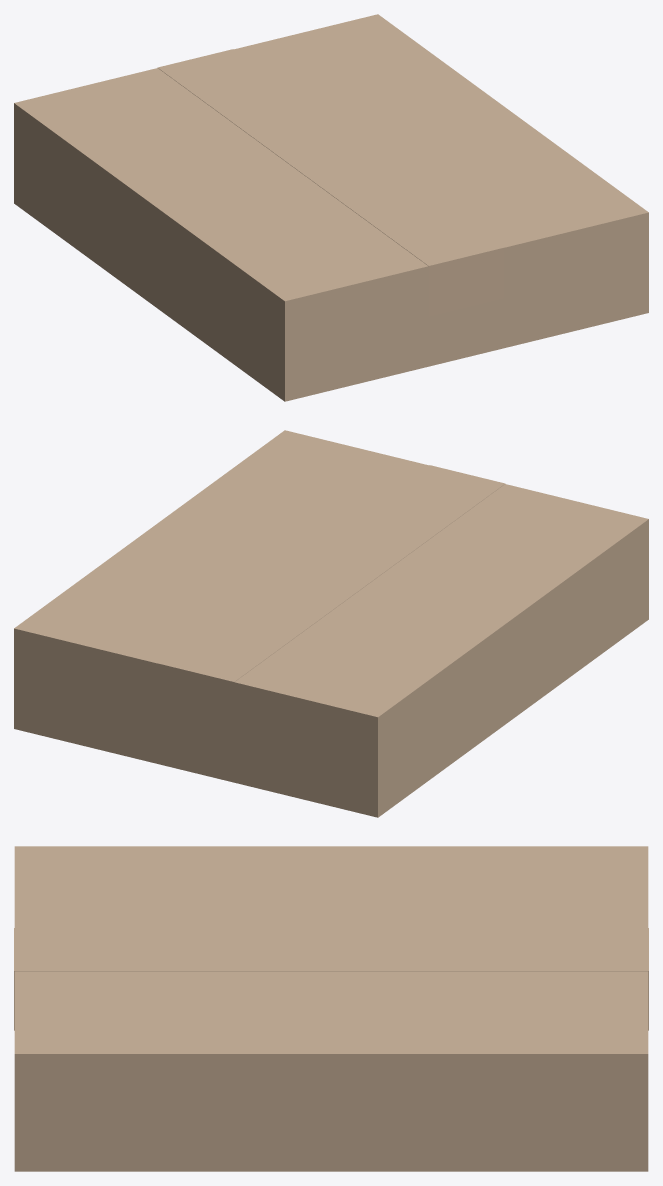
The model's file is boxPLAT.FBX.
The picture shows the model from 3 angles, top to bottom: view 1: azimuth 30°, elevation 25°; view 2: azimuth 150°, elevation 25°; view 3: azimuth 270°, elevation 25°; orthographic projection. The views are drawn at different scales.
Parts seen in each view (by area): view 1: boxPLAT; view 2: boxPLAT; view 3: boxPLAT.
Boxes of the visible parts, x1,y1,x2,y2 form: boxPLAT: [14, 14, 648, 401]; boxPLAT: [14, 430, 648, 817]; boxPLAT: [14, 846, 648, 1171].
Bounding box in the file's own units: 17.38 × 4.6 × 22.44.
